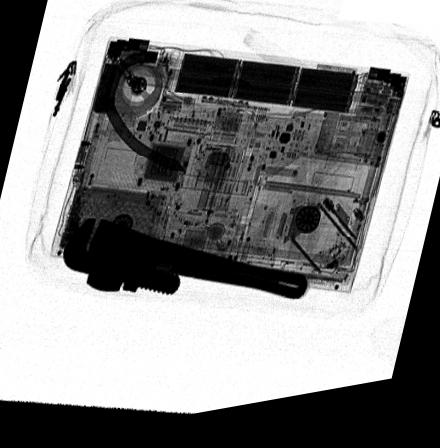Wrench: (59, 219, 309, 314)
